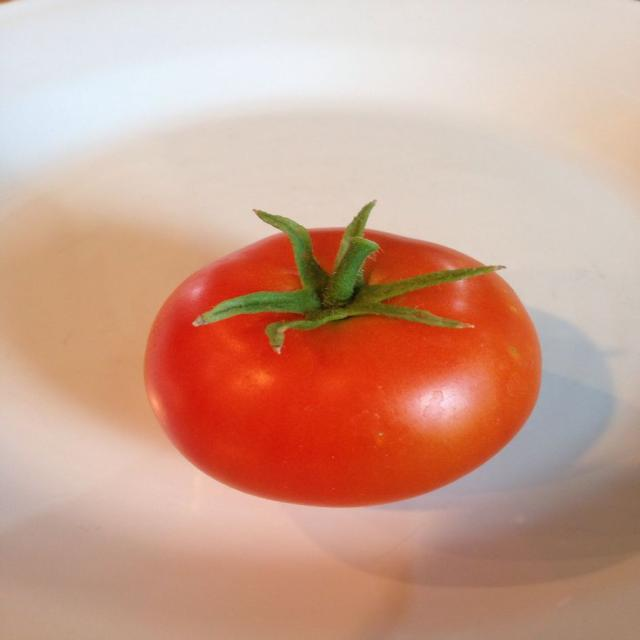tomato: (146, 234, 540, 506)
